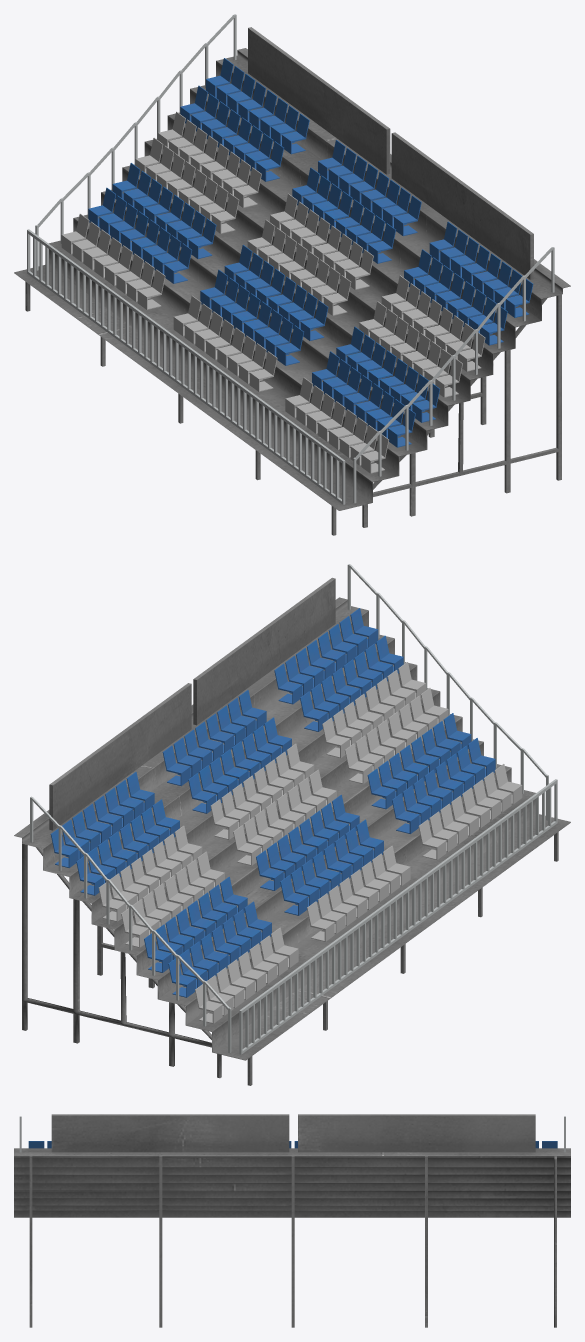
The model's file is race_track_stadium_viewing_stand_and_seating.glb.
3 views of the same model, one above another, from view 1: azimuth 30°, elevation 25°; view 2: azimuth 150°, elevation 25°; view 3: azimuth 270°, elevation 25° (orthographic). The views are drawn at different scales.
Visible parts, largest first — view 1: polySurface39, polySurface172, polySurface15, polySurface24, polySurface167, polySurface180, polySurface74; view 2: polySurface39, polySurface172, polySurface24, polySurface15, polySurface36, polySurface74, polySurface180; view 3: polySurface39, polySurface24, polySurface15, polySurface139, polySurface160, polySurface167, polySurface36, polySurface105.
Boxes of the visible parts, box(x1,y1,x2,y2) form: polySurface39: box(14, 48, 570, 510); polySurface172: box(27, 229, 345, 504); polySurface15: box(248, 27, 390, 174); polySurface24: box(391, 132, 533, 279); polySurface167: box(331, 294, 561, 535); polySurface180: box(353, 247, 554, 503); polySurface74: box(35, 14, 236, 270); polySurface39: box(14, 597, 570, 1060); polySurface172: box(239, 779, 557, 1054); polySurface24: box(193, 577, 335, 725); polySurface15: box(49, 683, 191, 830); polySurface36: box(22, 844, 252, 1085); polySurface74: box(30, 796, 231, 1053); polySurface180: box(347, 564, 548, 820); polySurface39: box(14, 1148, 570, 1217); polySurface24: box(51, 1114, 289, 1152); polySurface15: box(298, 1114, 535, 1152); polySurface139: box(291, 1156, 294, 1327); polySurface160: box(159, 1156, 162, 1327); polySurface167: box(29, 1156, 32, 1327); polySurface36: box(554, 1156, 556, 1327); polySurface105: box(425, 1156, 427, 1327).
Bounding box in the file's own units: 28.3 × 28.01 × 68.73.
Materials: 5 (5 with a texture image).
